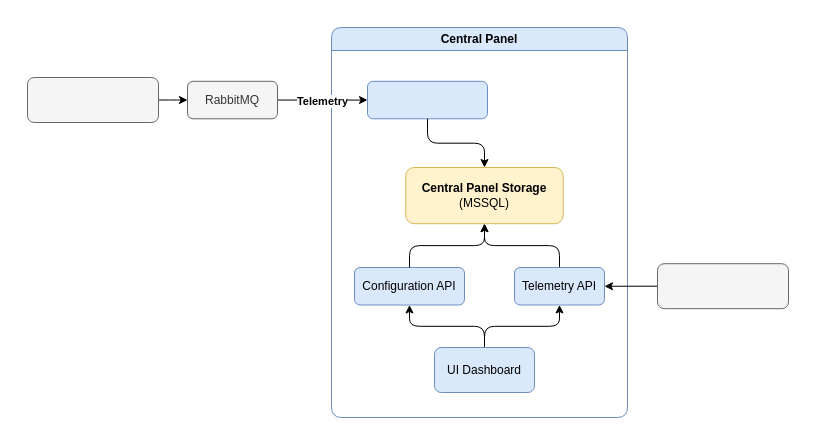
The diagram is 814 pixels wide and 444 high, and some of its shapes have lost their labels. The centre of each missing label's shape, as x and y in pixels:
"Area Gateway" belongs at point 92,99.
"Other Apps (e.g. analytics or BI)" belongs at point 722,286.
"Telemetry Worker" belongs at point 427,99.
